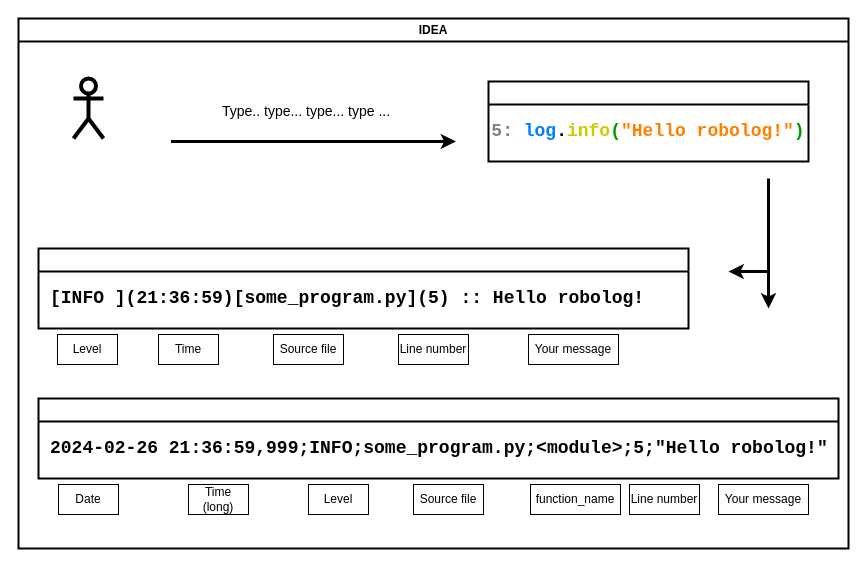
This 866x566 diagram has some shape labels left out. The shapes that lost their labels are listed below. From the top down, each one's box as (x1, y1, x2, y2) in pixels, then its label:
(71, 76, 105, 140): You
(487, 80, 809, 162): some_program.py
(37, 247, 689, 329): screen (default)
(37, 397, 839, 479): logs_202402.csv (default time/date-stamped file)
